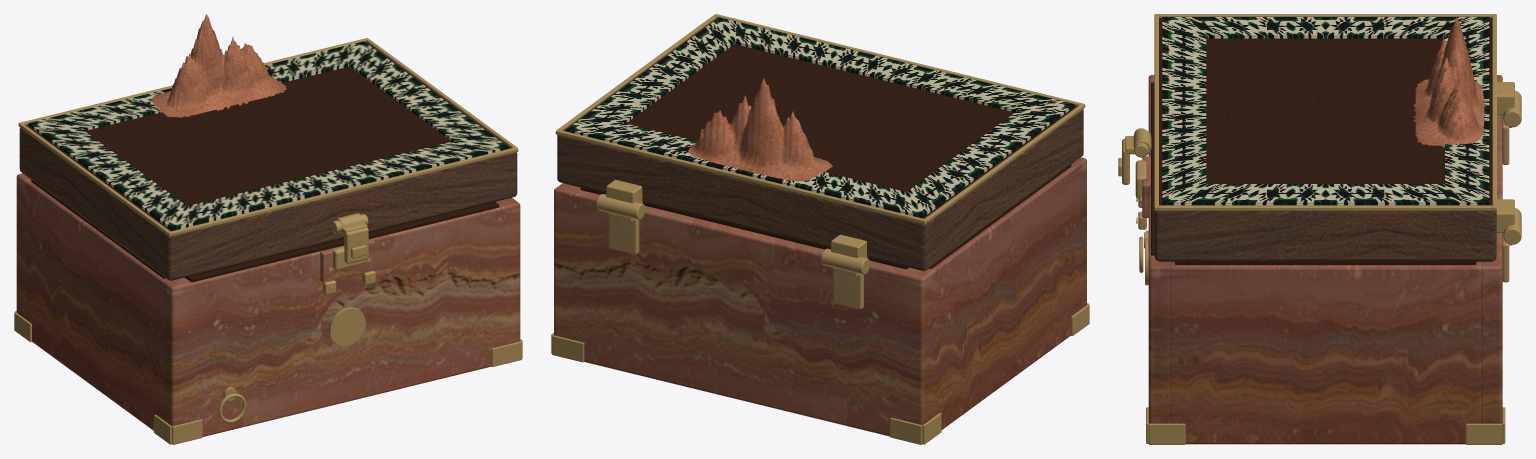
The model's file is morocco.glb.
The picture shows the model from 3 angles, left to right: view 1: azimuth 30°, elevation 25°; view 2: azimuth 150°, elevation 25°; view 3: azimuth 270°, elevation 25°; orthographic projection. The views are drawn at different scales.
Parts seen in each view (by area): view 1: Rose stone / front, Lid / polished slab, Rose stone / side, Ceramic tessera / near black green accents, Ceramic tessera / deep green glaze, Atlas ridge / rear centre eroded massif, Ceramic tessera / ivory glaze, Rim / long, Brass / crown long, Rose stone / rear, Medallion / uninscribed solid brass, Brass / crown side (+7 smaller); view 2: Rose stone / rear, Lid / polished slab, Rose stone / side, Ceramic tessera / near black green accents, Ceramic tessera / deep green glaze, Atlas ridge / rear centre eroded massif, Ceramic tessera / ivory glaze, Brass / crown long.001, Rose stone / front, Brass / crown long, Brass / crown side, Hinge / fixed mount.001 (+11 smaller); view 3: Rose stone / side.001, Lid / polished slab, Ceramic tessera / near black green accents, Ceramic tessera / deep green glaze, Atlas ridge / rear centre eroded massif, Ceramic tessera / ivory glaze, Rose stone / rear, Rose stone / front, Brass / crown side.001, Rim / end.001, Brass / crown side, Brass / crown long (+11 smaller).
Boxes of the visible parts, x1,y1,x2,y2 form: Rose stone / front: (162, 197, 520, 436); Lid / polished slab: (19, 42, 517, 280); Rose stone / side: (25, 180, 167, 430); Ceramic tessera / near black green accents: (48, 55, 488, 215); Ceramic tessera / deep green glaze: (153, 132, 508, 229); Atlas ridge / rear centre eroded massif: (151, 14, 286, 117); Ceramic tessera / ivory glaze: (28, 41, 382, 138); Rim / long: (185, 201, 499, 282); Brass / crown long: (167, 147, 518, 236); Rose stone / rear: (16, 173, 30, 318); Medallion / uninscribed solid brass: (329, 307, 365, 346); Brass / crown side: (20, 123, 169, 235); Rose stone / rear: (554, 183, 932, 436); Lid / polished slab: (557, 18, 1083, 270); Rose stone / side: (926, 164, 1077, 429); Ceramic tessera / near black green accents: (587, 32, 1053, 201); Ceramic tessera / deep green glaze: (699, 17, 1074, 120); Atlas ridge / rear centre eroded massif: (688, 78, 832, 181); Ceramic tessera / ivory glaze: (566, 114, 942, 217); Brass / crown long.001: (555, 129, 927, 224); Rose stone / front: (1071, 157, 1086, 311); Brass / crown long: (714, 14, 1085, 108); Brass / crown side: (924, 105, 1083, 222); Hinge / fixed mount.001: (608, 213, 639, 254); Rose stone / side.001: (1170, 261, 1480, 444); Lid / polished slab: (1154, 18, 1496, 261); Ceramic tessera / near black green accents: (1206, 17, 1444, 203); Ceramic tessera / deep green glaze: (1162, 17, 1206, 203); Atlas ridge / rear centre eroded massif: (1413, 17, 1484, 147); Ceramic tessera / ivory glaze: (1445, 17, 1489, 203); Rose stone / rear: (1481, 75, 1502, 423); Rose stone / front: (1148, 75, 1170, 423); Brass / crown side.001: (1158, 205, 1492, 210); Rim / end.001: (1175, 261, 1476, 264); Brass / crown side: (1158, 14, 1492, 17); Brass / crown long: (1154, 14, 1158, 210).
Size of the model in its own units: 3.76 by 2.96 by 3.28.
Materials: 6 (5 with a texture image).
